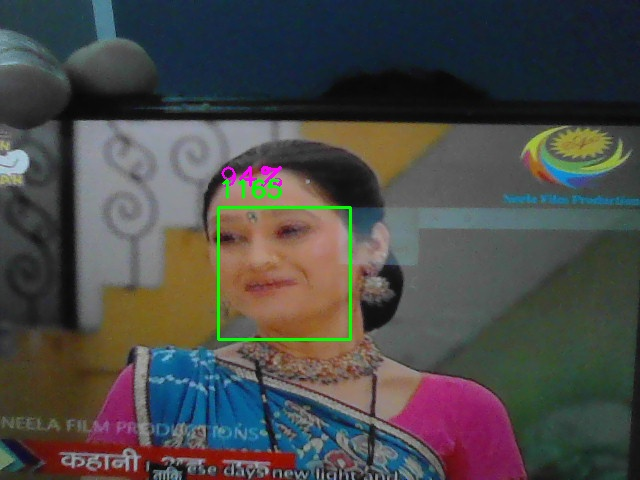fake: (218, 207, 351, 340)
